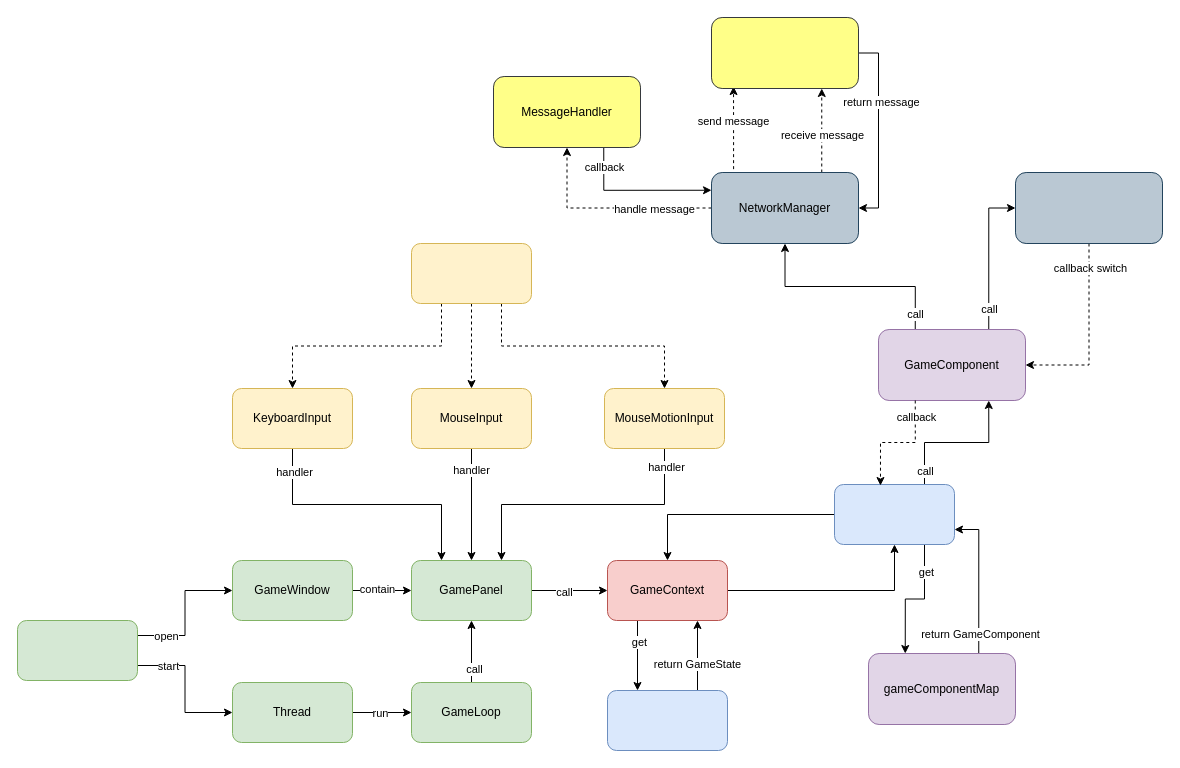
This 1180x768 diagram has some shape labels left out. Each missing label, with the centre of its shape:
"AWTEvent" belongs at pixel 471 273.
"Game" belongs at pixel 77 650.
"GameManager" belongs at pixel 1088 208.
"GameState" belongs at pixel 894 514.
"GameWebSocket" belongs at pixel 784 52.
"stateMap" belongs at pixel 667 720.
